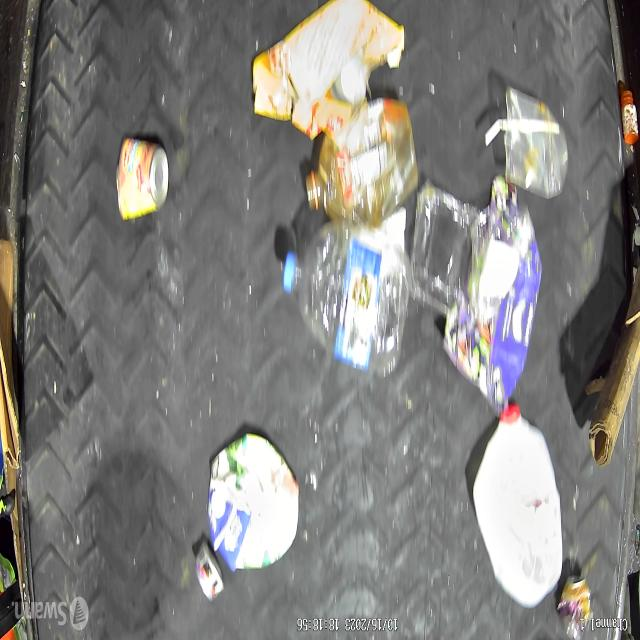can: (114, 135, 170, 226), (558, 574, 592, 640), (193, 540, 226, 602)
milk_jug: (472, 402, 564, 608)
non_white_jug: (440, 196, 542, 412), (304, 97, 420, 219), (208, 431, 300, 573)
plastic_bottle: (282, 222, 410, 378)
